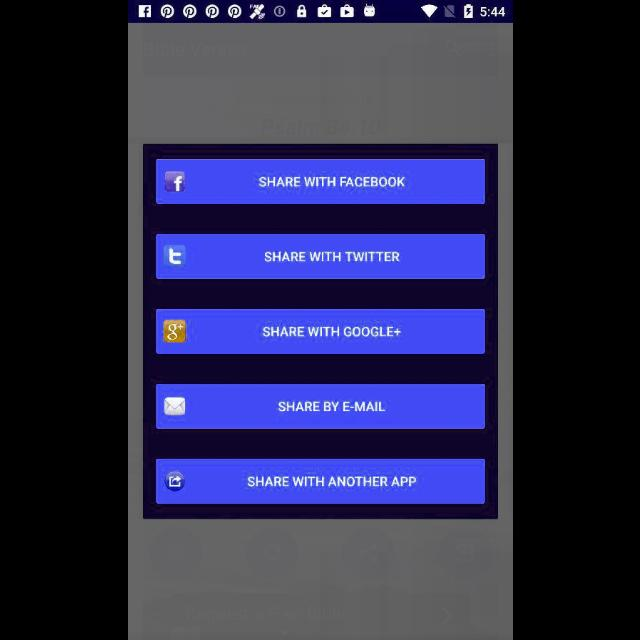panel: (143, 145, 497, 520)
textbutton: (155, 234, 485, 280), (156, 384, 484, 430), (155, 310, 485, 354), (155, 160, 485, 204), (156, 460, 484, 504)
uppertaskbar: (128, 1, 512, 23)
